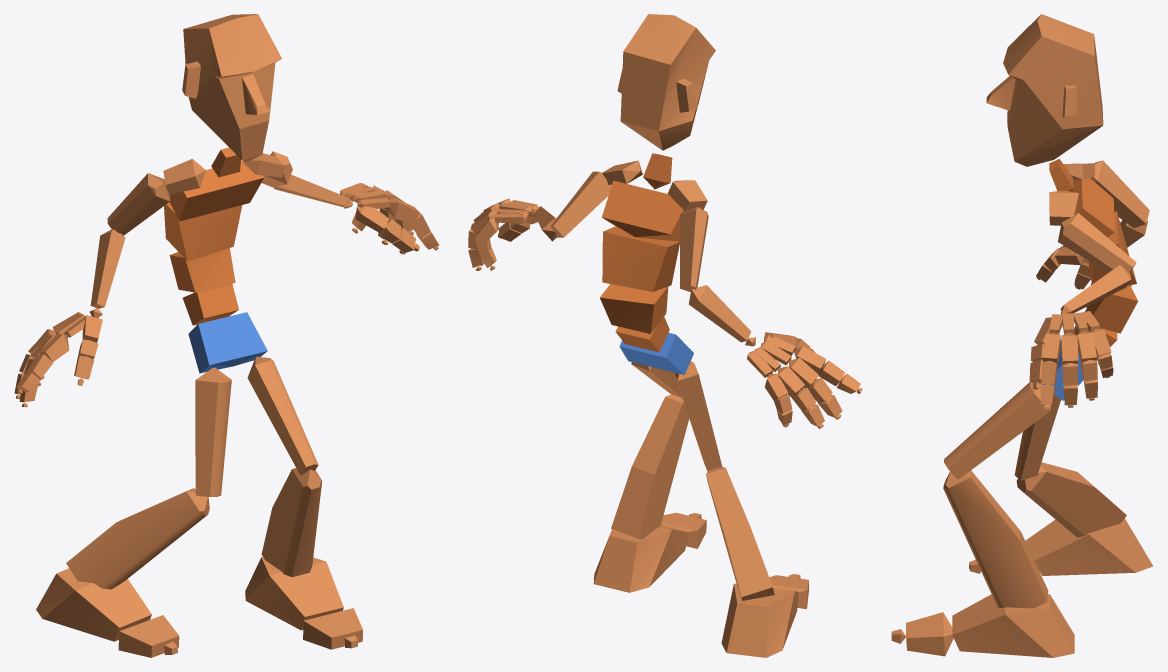
3 renders of one model, left to right at view 1: azimuth 30°, elevation 25°; view 2: azimuth 150°, elevation 25°; view 3: azimuth 270°, elevation 25°, orthographic. The views are drawn at different scales.
Visible parts, largest first — view 1: BOPED_Head, BOPED_R_leg, BOPED_R_foot, BOPED_L_leg, BOPED_R_foot01, BOPED_R_legup, Bone01, BOPED_L_legup, Bone04, Bone05, Bone03, BOPED_R_arm_upper (+8 smaller); view 2: BOPED_Head, BOPED_L_leg, BOPED_R_foot01, BOPED_R_foot, BOPED_R_leg, Bone04, Bone05, Bone03, BOPED_R_legup, BOPED_R_arm_upper, BOPED_L_arm_upper, Bone01 (+8 smaller); view 3: BOPED_Head, BOPED_L_leg, BOPED_R_foot01, BOPED_R_foot, BOPED_R_leg, BOPED_L_legup, BOPED_L_arm_upper, BOPED_R_legup, BOPED_R_arm_upper, BOPED_R_foot_toe04, Bone05, Bone03 (+10 smaller).
Part boxes in pixels (<box>): BOPED_Head: <box>182,14,281,161</box>; BOPED_R_leg: <box>66,488,209,589</box>; BOPED_R_foot: <box>36,568,151,641</box>; BOPED_L_leg: <box>261,468,322,577</box>; BOPED_R_foot01: <box>245,556,343,630</box>; BOPED_R_legup: <box>195,367,231,496</box>; Bone01: <box>188,312,267,373</box>; BOPED_L_legup: <box>247,356,318,475</box>; Bone04: <box>164,202,242,261</box>; Bone05: <box>170,160,264,221</box>; Bone03: <box>169,248,235,292</box>; BOPED_R_arm_upper: <box>107,173,169,235</box>; BOPED_Head: <box>617,14,715,150</box>; BOPED_L_leg: <box>611,394,689,539</box>; BOPED_R_foot01: <box>593,525,688,592</box>; BOPED_R_foot: <box>721,583,798,657</box>; BOPED_R_leg: <box>706,466,774,600</box>; Bone04: <box>602,226,679,291</box>; Bone05: <box>601,180,686,241</box>; Bone03: <box>600,284,668,333</box>; BOPED_R_legup: <box>674,361,722,471</box>; BOPED_R_arm_upper: <box>680,207,708,292</box>; BOPED_L_arm_upper: <box>551,171,611,237</box>; Bone01: <box>619,332,693,374</box>; BOPED_Head: <box>986,14,1103,166</box>; BOPED_L_leg: <box>943,470,1048,608</box>; BOPED_R_foot01: <box>952,594,1074,657</box>; BOPED_R_foot: <box>1025,518,1152,575</box>; BOPED_R_leg: <box>1016,462,1126,537</box>; BOPED_L_legup: <box>944,382,1050,479</box>; BOPED_L_arm_upper: <box>1058,213,1136,272</box>; BOPED_R_legup: <box>1014,383,1060,480</box>; BOPED_R_arm_upper: <box>1090,160,1149,227</box>; BOPED_R_foot_toe04: <box>906,612,953,656</box>; Bone05: <box>1072,178,1114,237</box>; Bone03: <box>1086,283,1138,333</box>.
Size of the model in its own units: 130 by 178 by 70.53.
